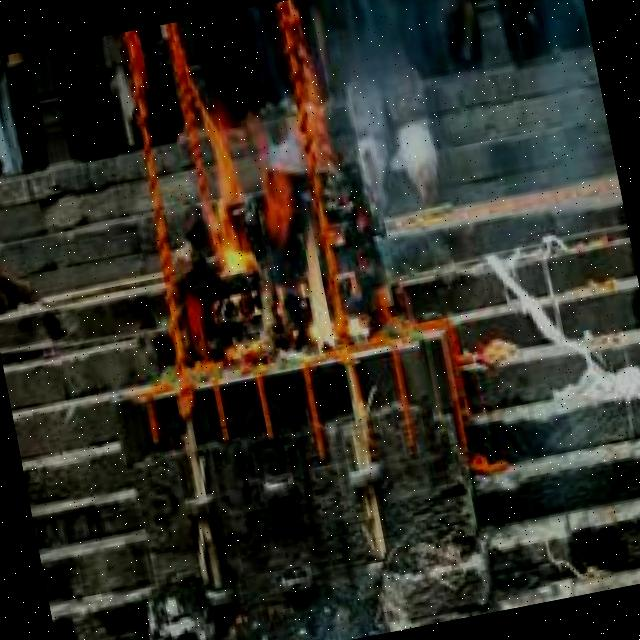fire: (179, 83, 350, 378)
